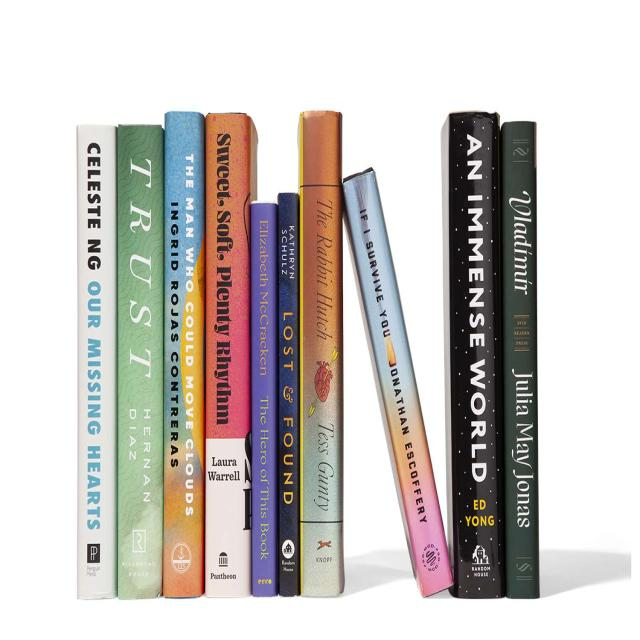Books: (342, 169, 452, 596), (441, 111, 505, 598), (205, 112, 258, 598), (299, 111, 344, 596), (118, 126, 164, 600), (162, 111, 205, 598), (76, 126, 118, 600), (501, 122, 540, 598), (250, 202, 278, 596), (279, 193, 300, 596)
